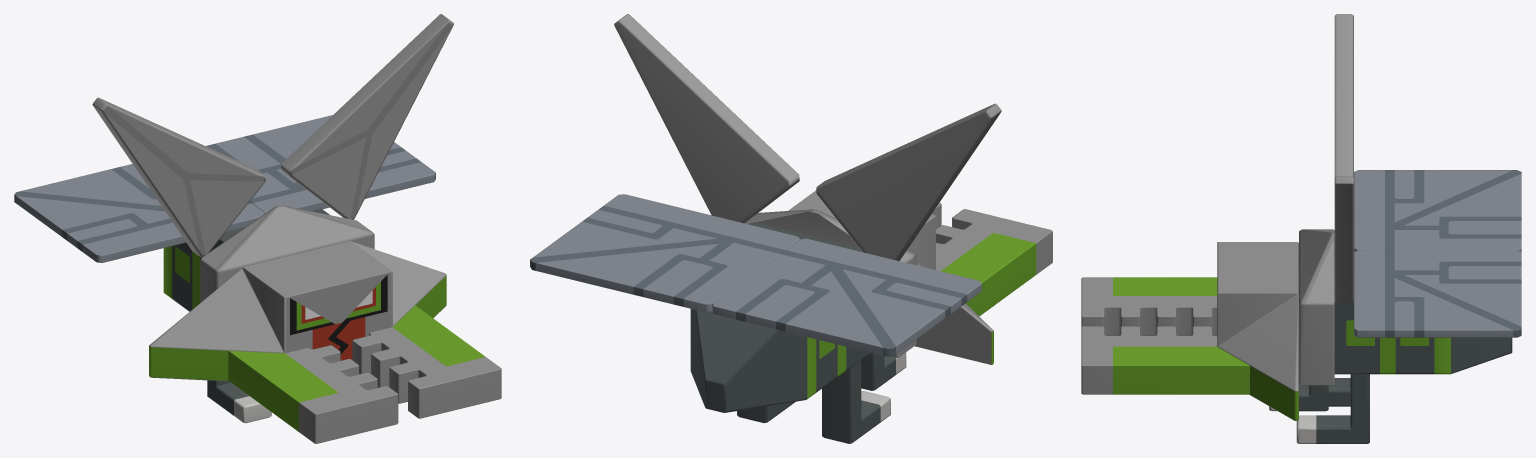
3 views of the same model, side by side, from view 1: azimuth 30°, elevation 25°; view 2: azimuth 150°, elevation 25°; view 3: azimuth 270°, elevation 25° (orthographic). The views are drawn at different scales.
Visible parts, largest first — view 1: model; view 2: model; view 3: model.
Boxes of the visible parts, <box> form: model: <box>14,14,501,443</box>; model: <box>530,14,1052,443</box>; model: <box>1081,14,1521,443</box>.
Bounding box in the file's own units: 3.7 × 3.35 × 4.12.
